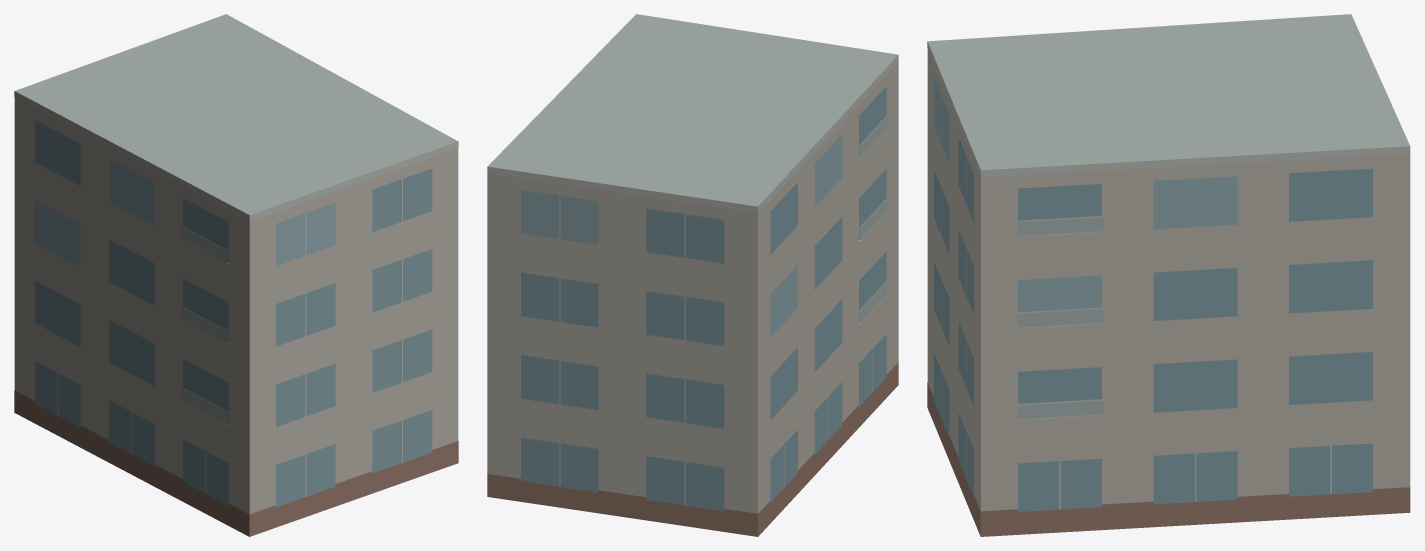
The model's file is survey-upis-32576366.glb.
The picture shows the model from 3 angles, left to right: view 1: azimuth 30°, elevation 25°; view 2: azimuth 150°, elevation 25°; view 3: azimuth 270°, elevation 25°; orthographic projection. The views are drawn at different scales.
Parts seen in each view (by area): view 1: survey-upis-32576366.tmp; view 2: survey-upis-32576366.tmp; view 3: survey-upis-32576366.tmp.
Part boxes in pixels (x1,y1,x2,y2): survey-upis-32576366.tmp: (14, 14, 458, 536); survey-upis-32576366.tmp: (487, 14, 898, 536); survey-upis-32576366.tmp: (927, 14, 1410, 536).
Size of the model in its own units: 11.17 by 12.2 by 14.57.
